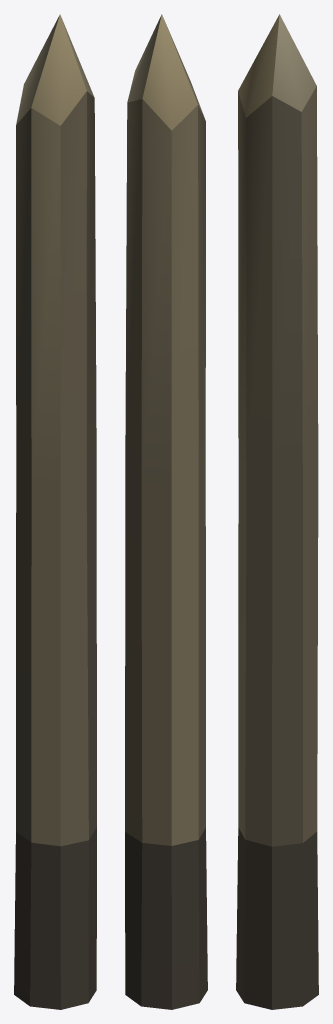
File: palisade.glb
3 views of the same model, side by side, from view 1: azimuth 30°, elevation 25°; view 2: azimuth 210°, elevation 25°; view 3: azimuth 330°, elevation 25° (orthographic).
Visible parts, largest first — view 1: Stake; view 2: Stake; view 3: Stake.
Part boxes in pixels (x1,y1,x2,y2): Stake: (14, 14, 96, 1009); Stake: (125, 14, 207, 1009); Stake: (236, 14, 318, 1009).
Bounding box in the file's own units: 0.2361 × 3.3 × 0.2371.
